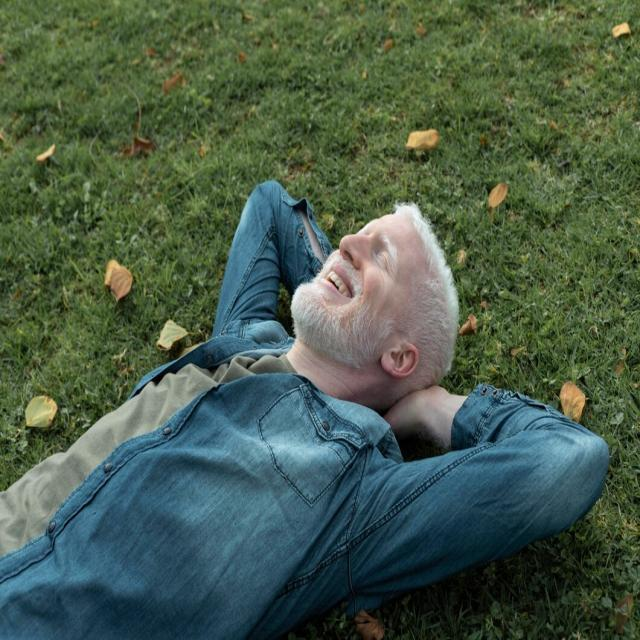idoso deitado: (2, 178, 610, 637)
